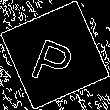P_N: (29, 24, 81, 86)
